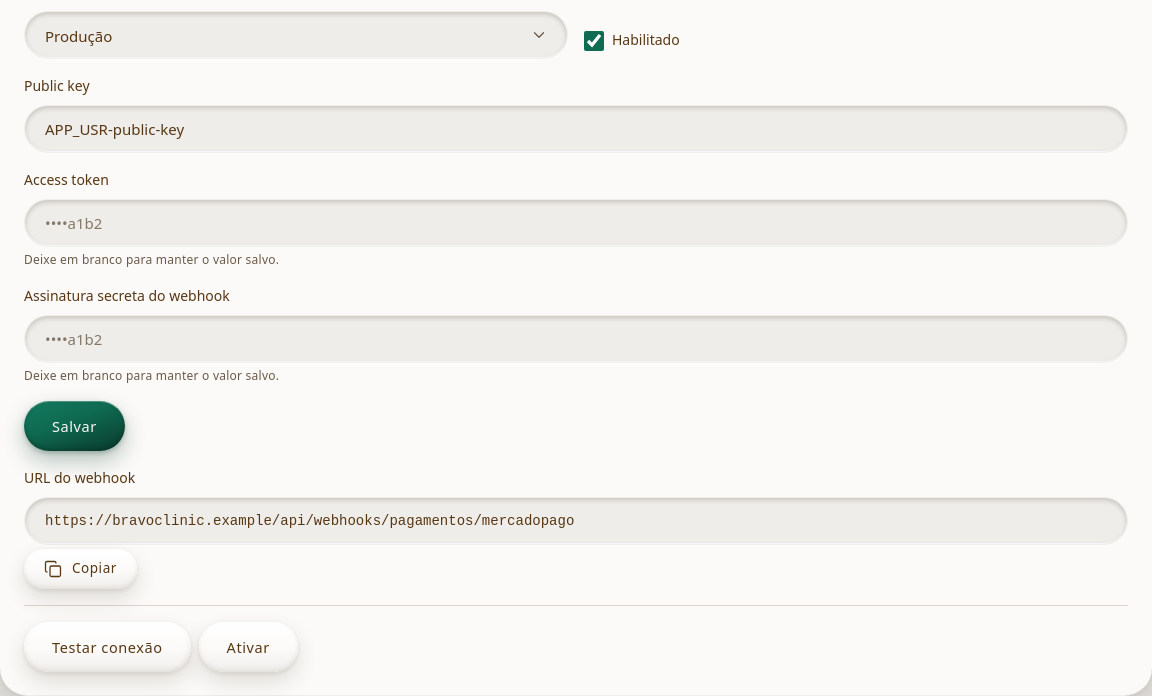
it: PaymentsTab connection test (GES-37) › shows the provider message in an error alert when ok is false
(page scrolled)
Click the button "Testar conexão" at (107, 647), box top-left (24, 622), bottom-right (191, 672)
(page scrolled)
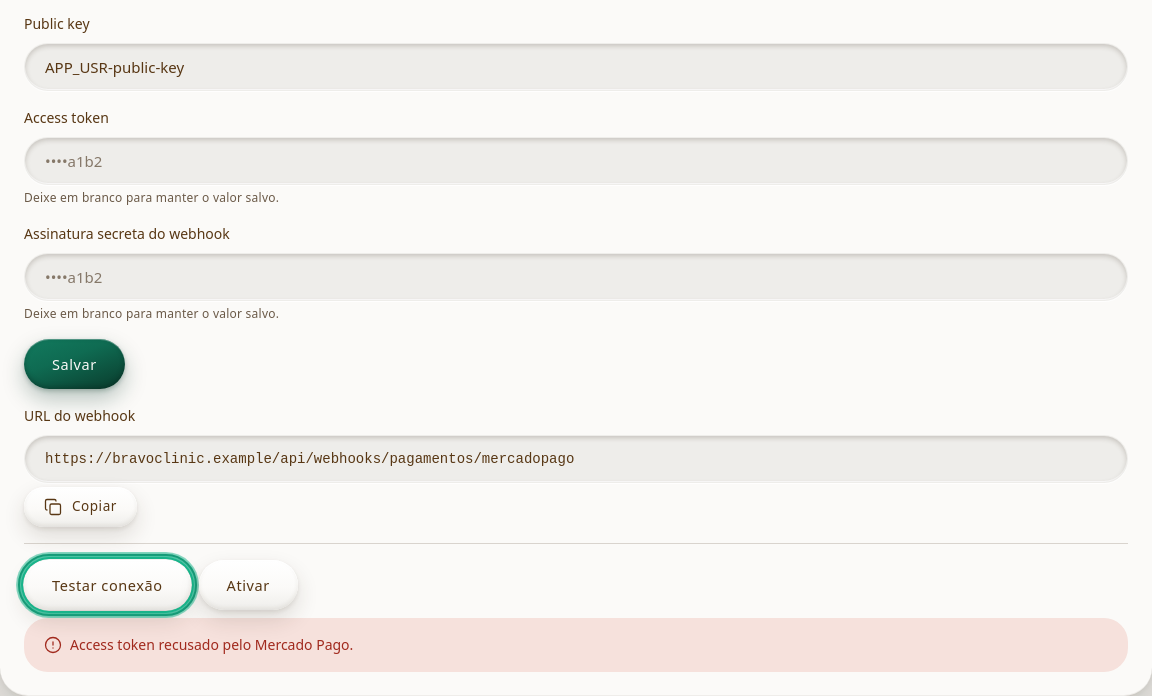
Expected: the message reads "Access token recusado pelo Mercado Pago.", top-left (70, 635), bottom-right (353, 654)
